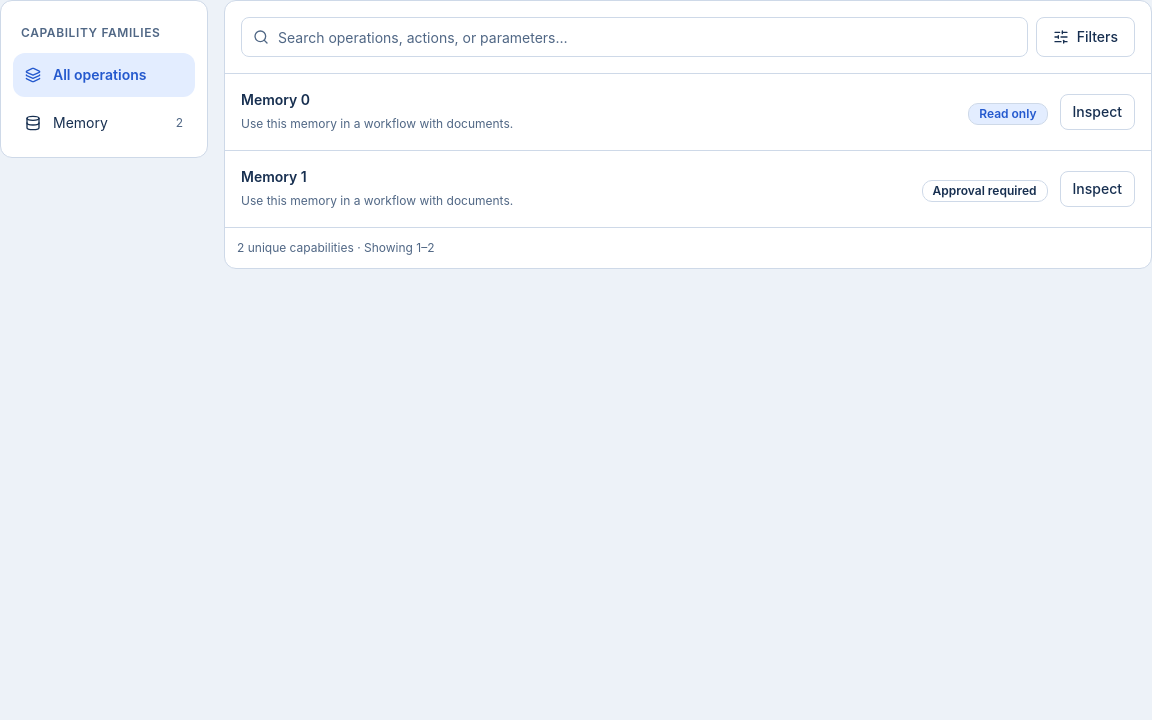
Test: capability browsing › filters by access and restores focus after closing operation details
Click the button "Filters".
click(1085, 37)  # box [1036,17,1135,57]
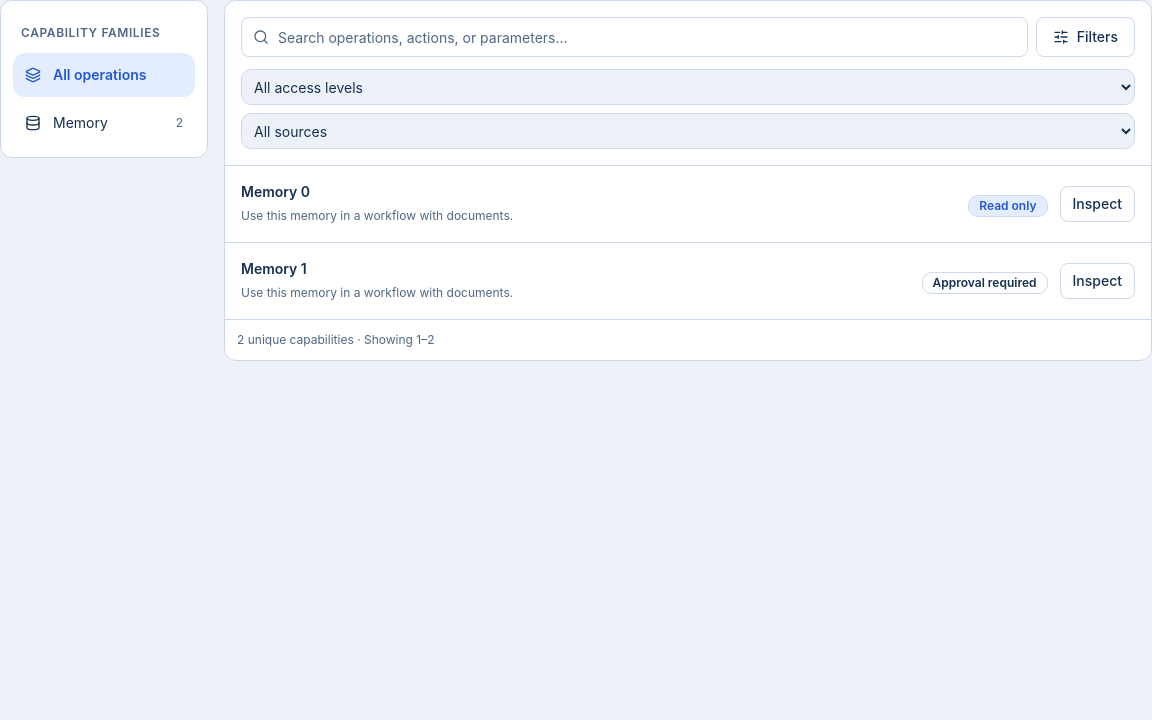
Select "Approval required" in the dropdown named "Access level" at (688, 87), box [241,69,1135,105]
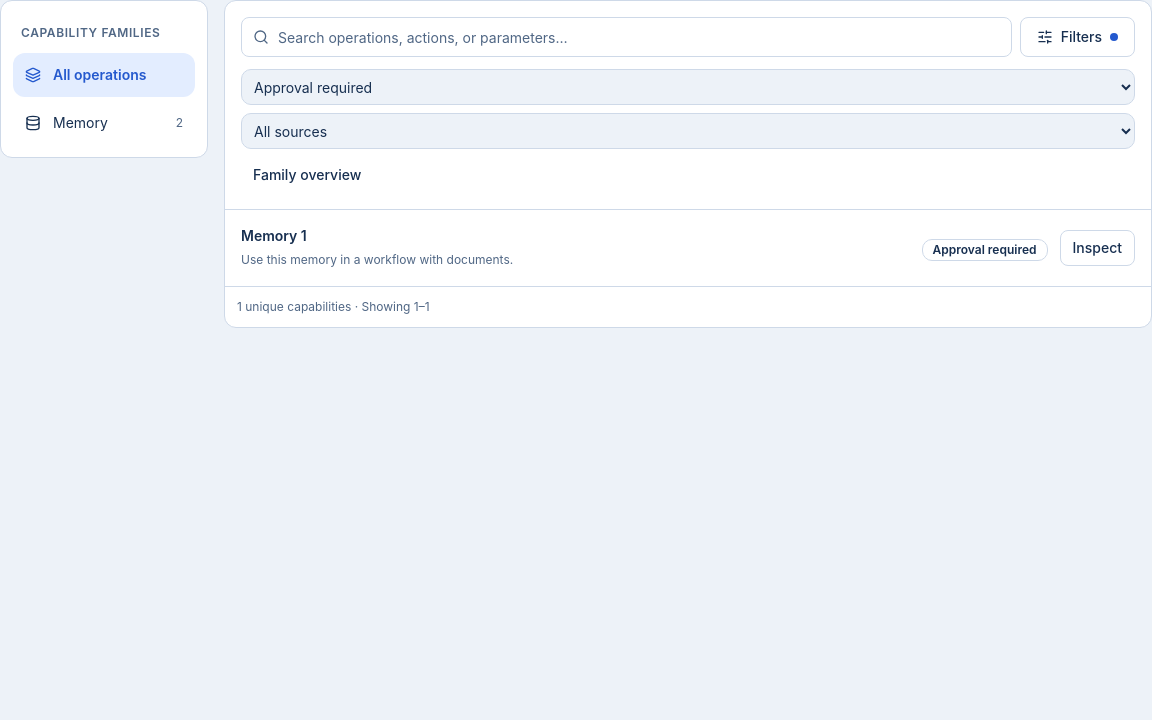
Click the button with aria-label "Inspect Memory 1".
click(1097, 248)  # box [1060,230,1135,266]
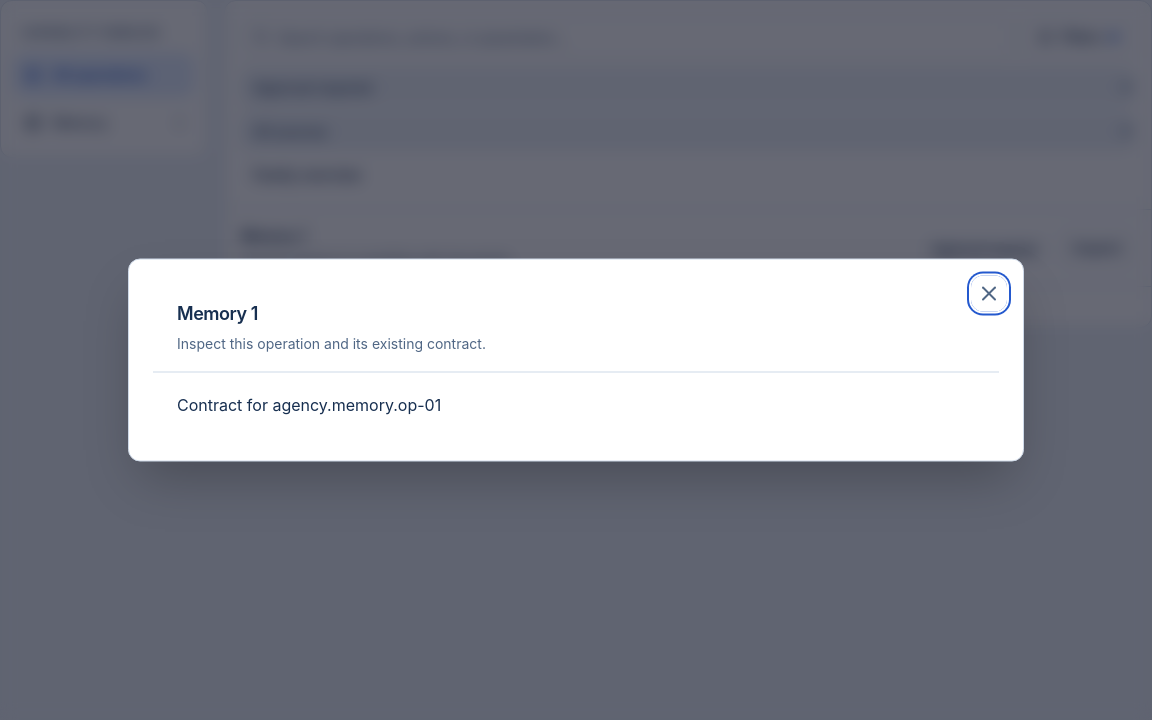
Expected: the dialog "Memory 1" is shown, [128,258,1024,462]
Click the button named "Close".
click(989, 294)  # box [971,276,1007,312]
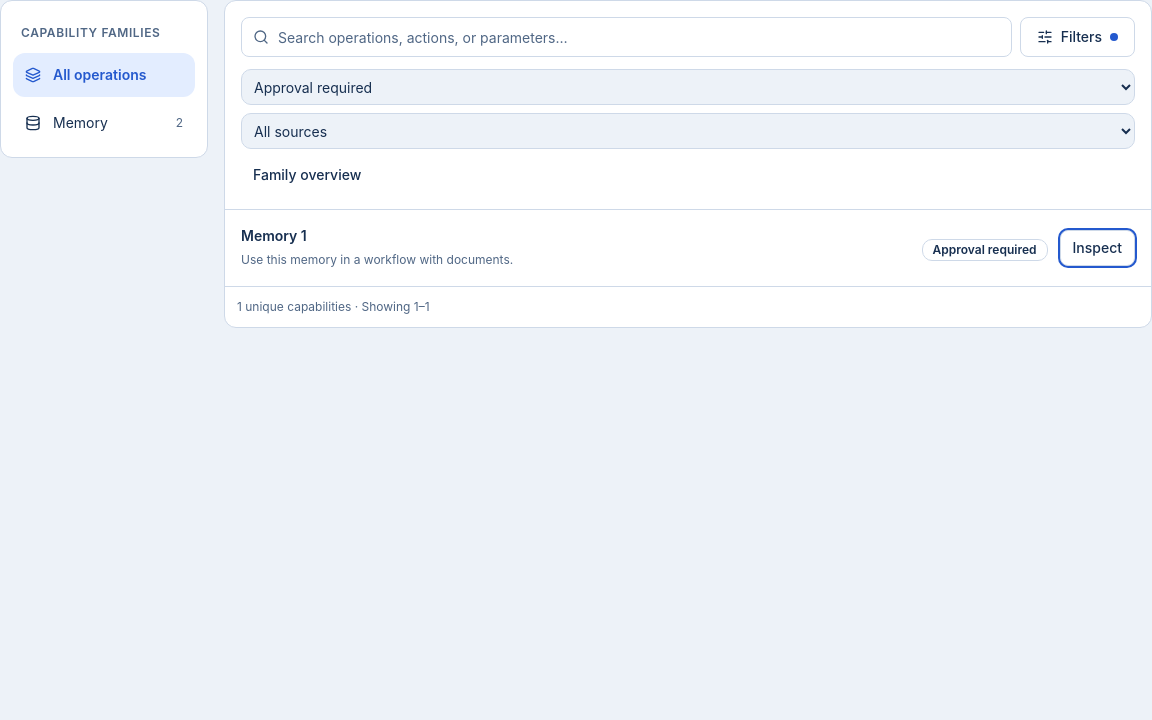
Expected: the dialog is gone
